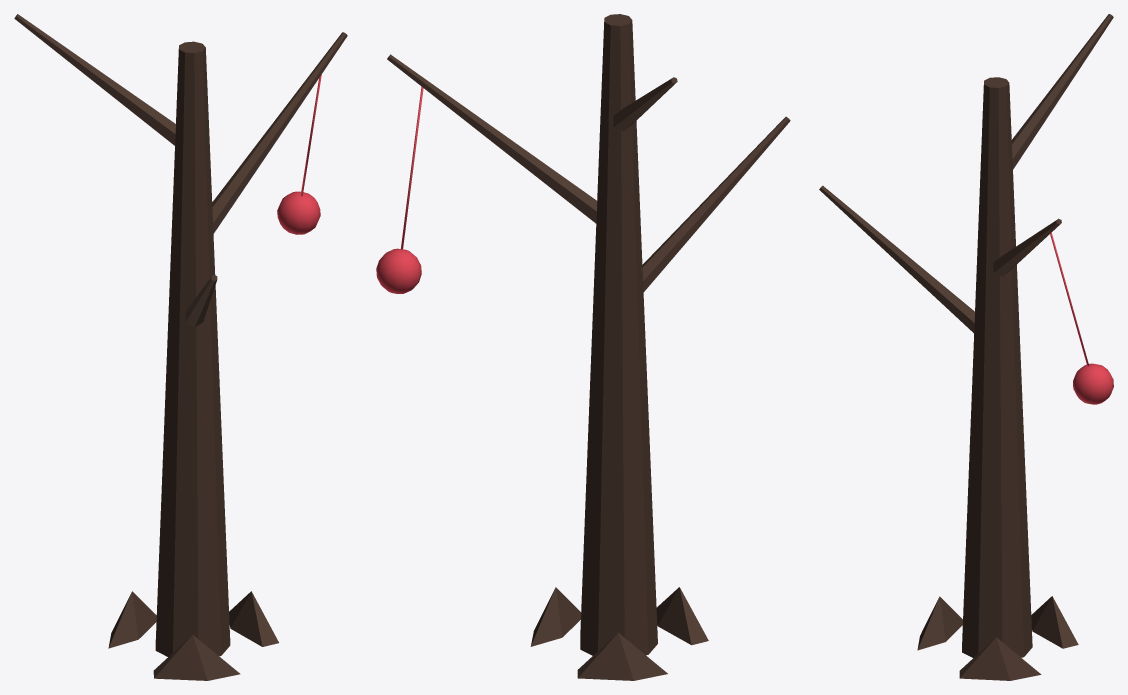
Rendered from zc_dead_tree.mobile-mid.glb.
The picture shows the model from 3 angles, left to right: view 1: azimuth 30°, elevation 25°; view 2: azimuth 150°, elevation 25°; view 3: azimuth 270°, elevation 25°; orthographic projection. The views are drawn at different scales.
Parts seen in each view (by area): view 1: tree_trunk, yarn_ball; view 2: tree_trunk, yarn_ball; view 3: tree_trunk, yarn_ball.
Part boxes in pixels (box(x1,y1,x2,y2)): tree_trunk: box(14, 14, 347, 680); yarn_ball: box(277, 74, 321, 234); tree_trunk: box(387, 14, 790, 680); yarn_ball: box(376, 86, 423, 293); tree_trunk: box(819, 14, 1113, 680); yarn_ball: box(1050, 232, 1113, 404).
Size of the model in its own units: 1.28 by 2.47 by 1.14.
1 material, 1 textured.
